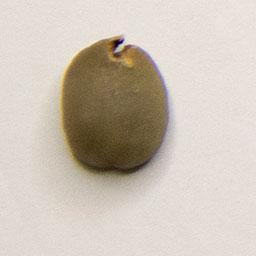premium: (58, 32, 174, 175)
